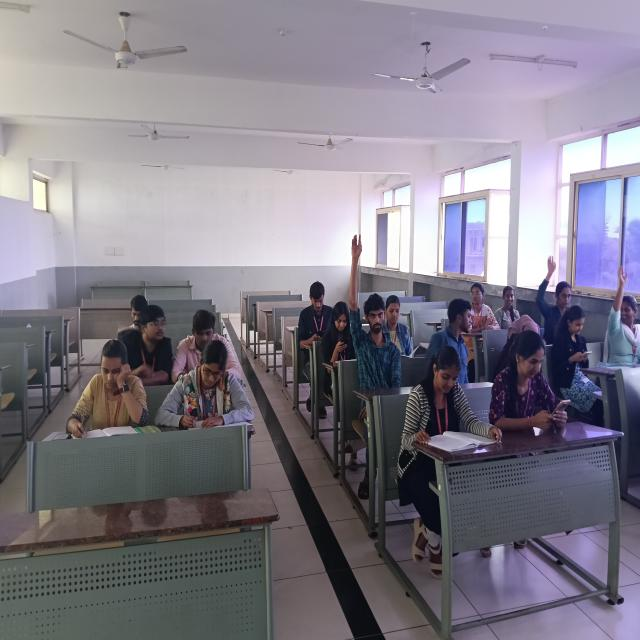Hand Rising: (340, 233, 402, 390), (530, 251, 584, 334), (602, 260, 638, 363)
Reading: (414, 341, 508, 460), (376, 294, 422, 362)
Using Phone: (495, 329, 584, 436), (550, 304, 598, 366), (298, 278, 336, 349), (322, 298, 359, 370)
Writing: (156, 336, 259, 432), (62, 335, 155, 436)
